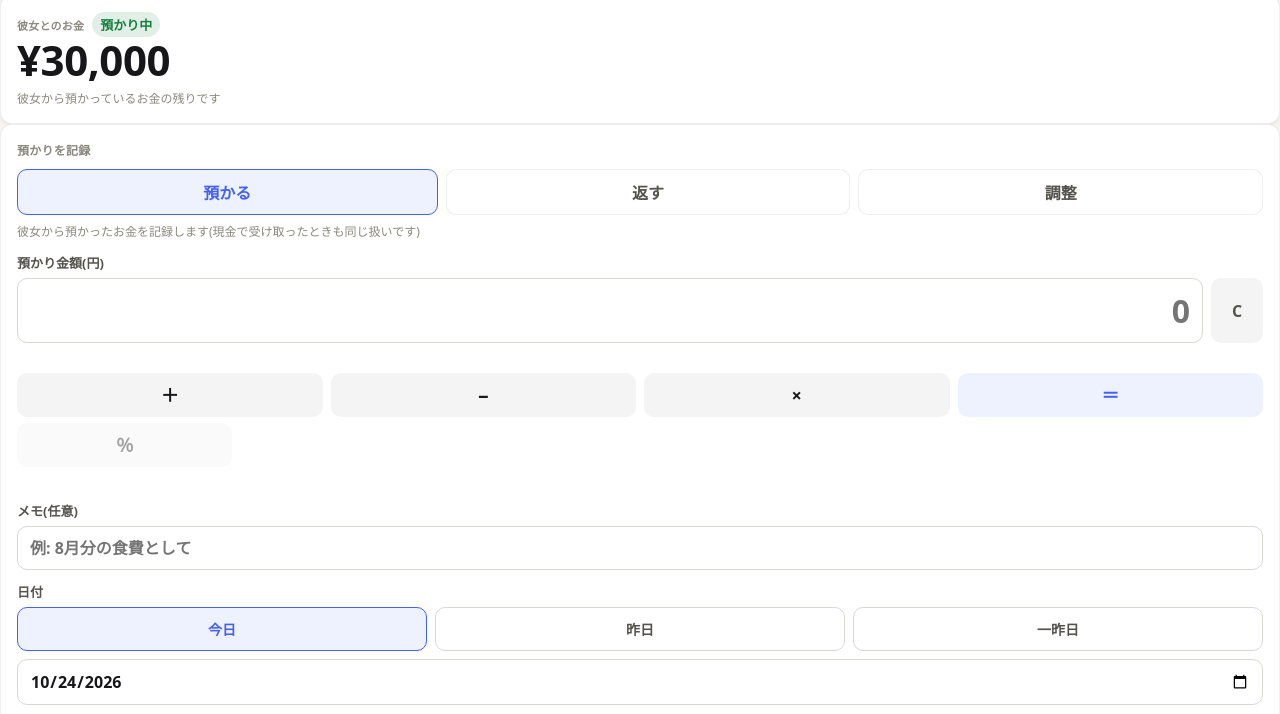
記録カードの「この記録のあと」 › 返すと残高が減った状態を、言葉と絶対値で先に見せる
Step 1. Click the button "返す" → click(648, 192), box [446,169,850,215]
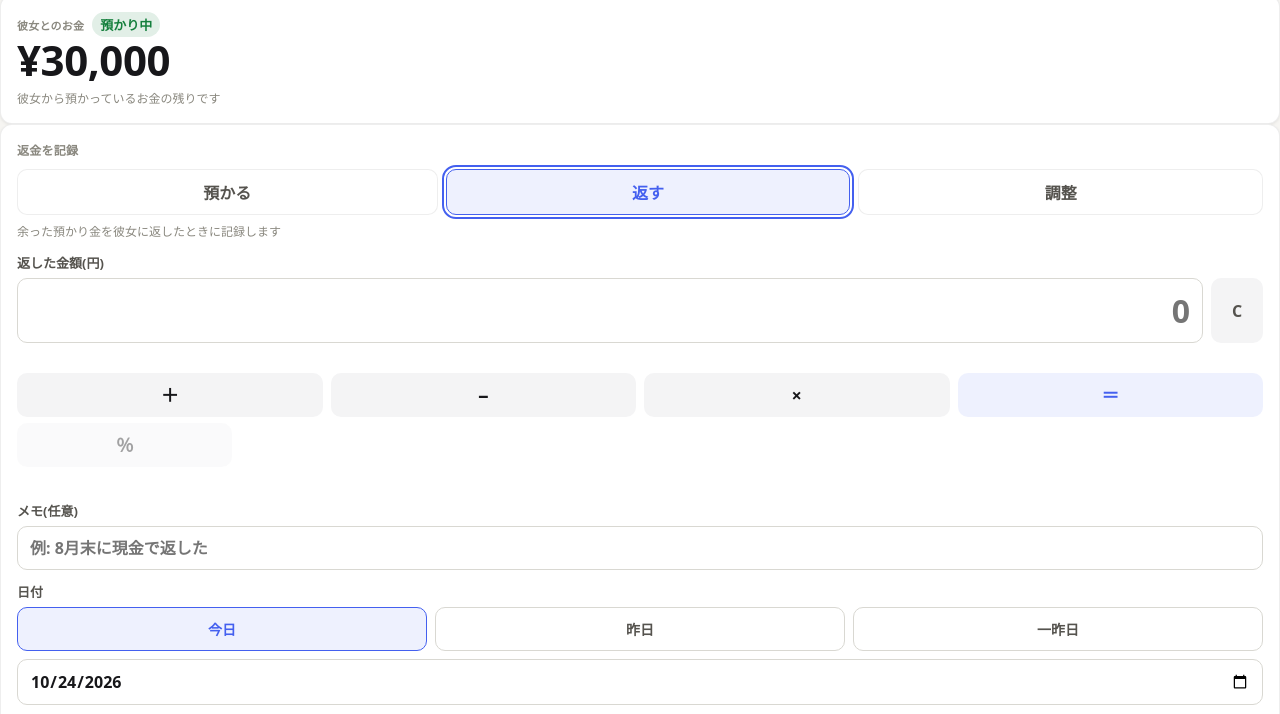
Step 2. Type "5000" into the field named "返した金額(円)" → (610, 311), box [17,278,1203,343]
(page scrolled)
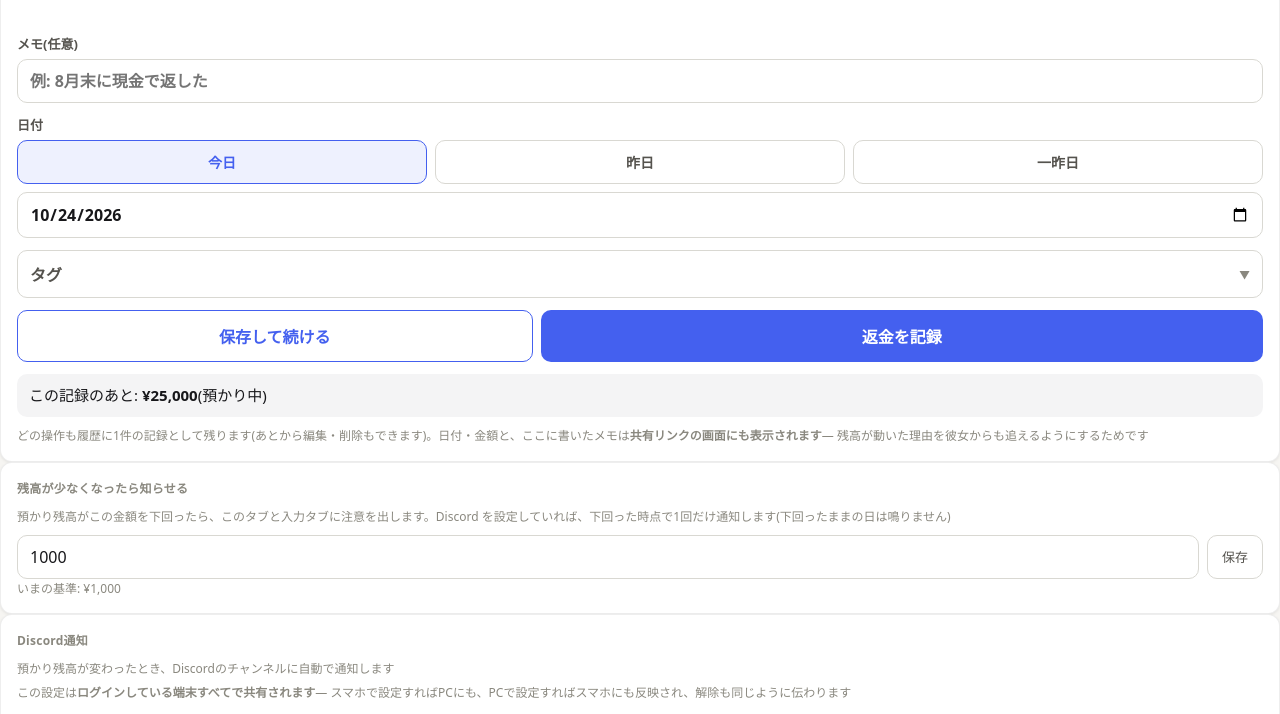
Expected: the text "この記録のあと: ¥25,000(預かり中)" is shown, [17,374,1263,417]
